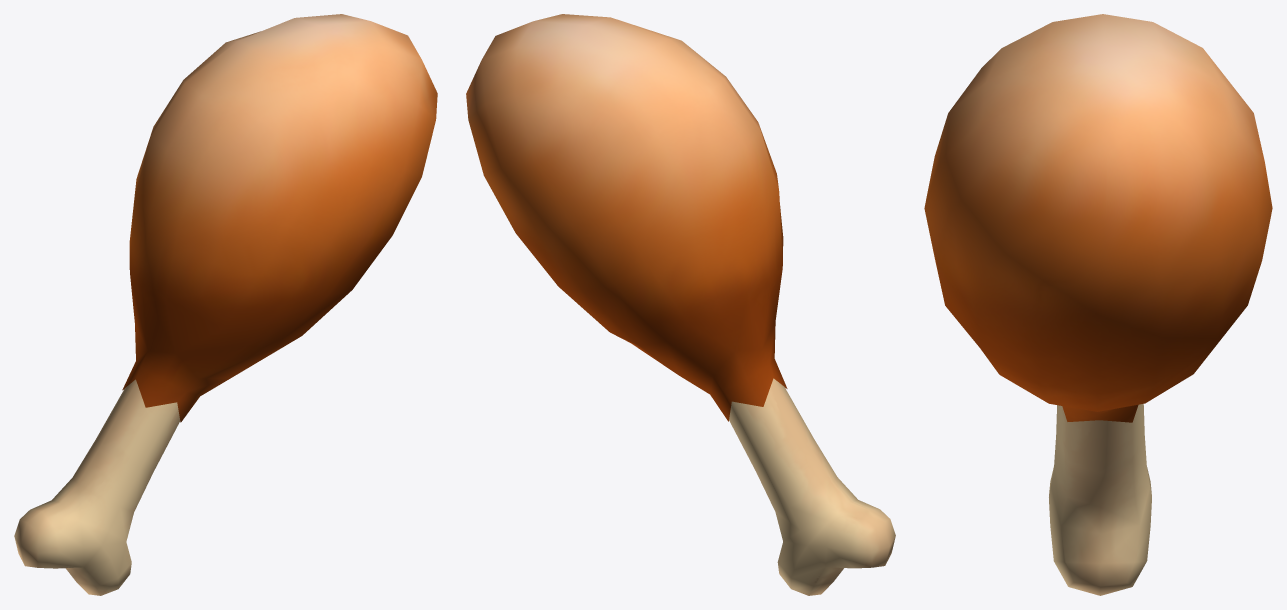
File: chicken_leg_001.fbx
The picture shows the model from 3 angles, left to right: view 1: azimuth 30°, elevation 25°; view 2: azimuth 150°, elevation 25°; view 3: azimuth 270°, elevation 25°; orthographic projection. The views are drawn at different scales.
Parts seen in each view (by area): view 1: chicken_leg_001; view 2: chicken_leg_001; view 3: chicken_leg_001.
Boxes of the visible parts, left/top/right/bottom form: chicken_leg_001: left=14, top=14, right=437, bottom=595; chicken_leg_001: left=466, top=14, right=895, bottom=595; chicken_leg_001: left=924, top=14, right=1272, bottom=595.
Bounding box in the file's own units: 1.76 × 2.11 × 0.9569.
Materials: 1 (1 with a texture image).
